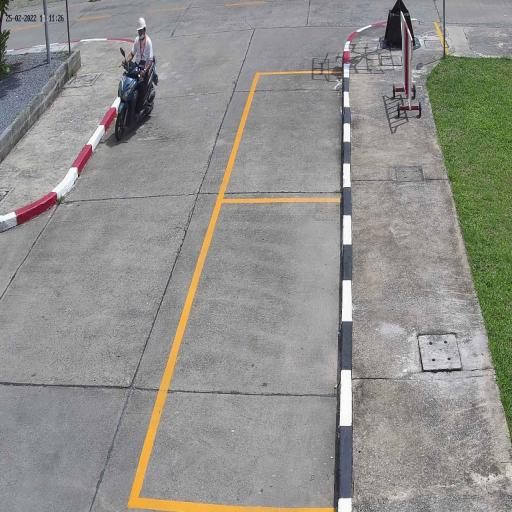motorcycle: (114, 59, 158, 144)
